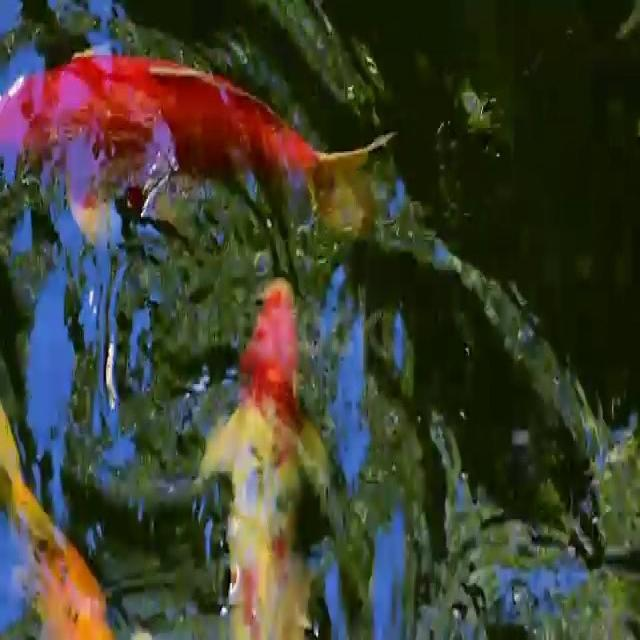fish: (0, 40, 413, 251), (194, 268, 346, 640), (0, 374, 128, 640)
